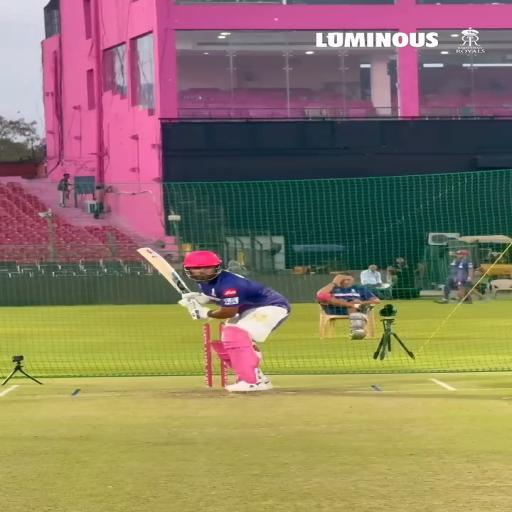Cricket bat: (137, 248, 189, 295)
